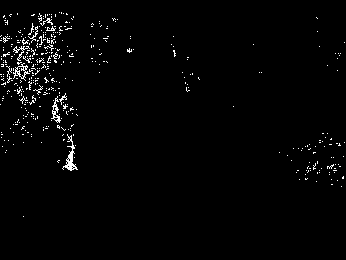person: (51, 90, 79, 171)
